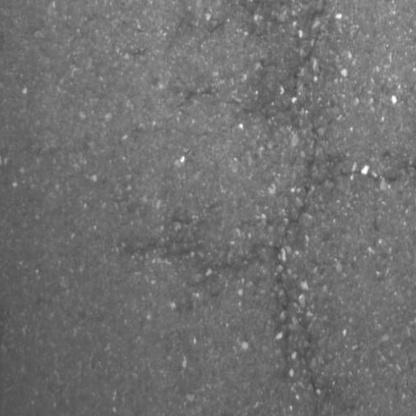Cracks: (272, 116, 403, 396), (284, 0, 342, 110)
